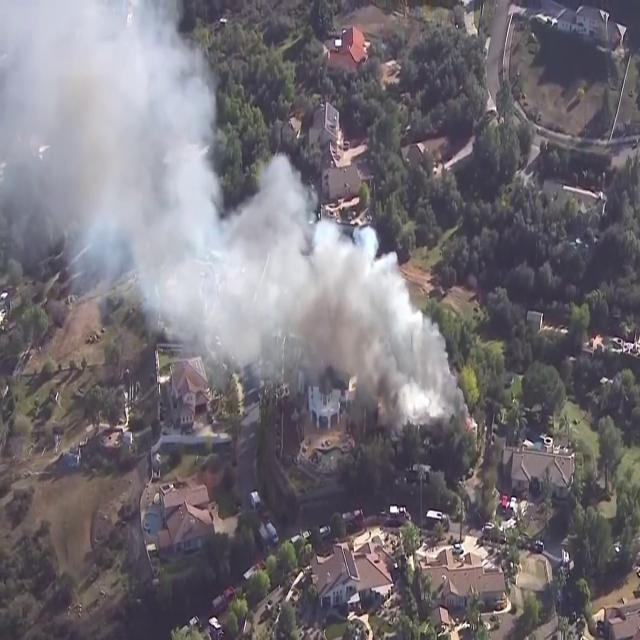Smoke: (0, 0, 466, 422)
